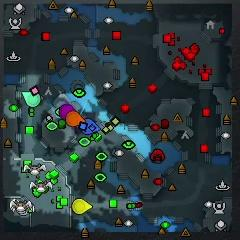p1: (80, 118, 100, 134)
p2: (21, 91, 41, 107)
p3: (59, 104, 76, 120)
p4: (72, 198, 93, 214)
p5: (66, 111, 85, 127)
